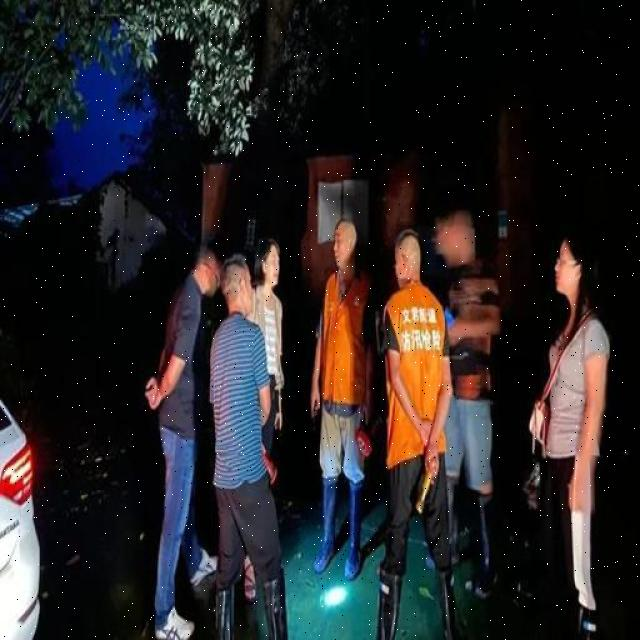rescuer: (378, 223, 472, 640), (300, 214, 373, 578)
